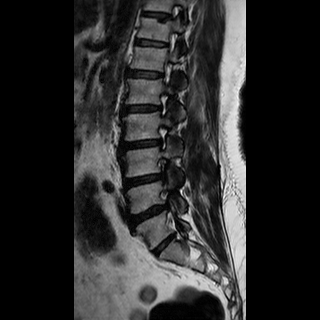LFS0: (150, 121, 175, 153), (152, 88, 173, 119)
LFS3: (150, 156, 174, 187)
